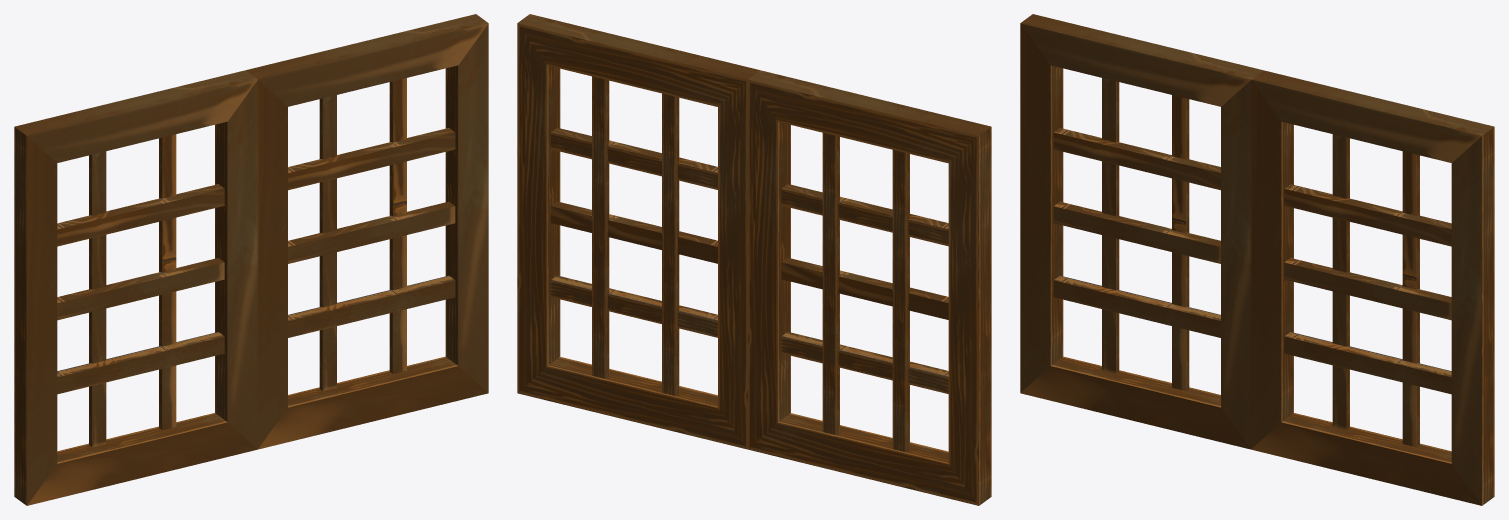
File: window_ff3.fbx
3 views of the same model, side by side, from view 1: azimuth 30°, elevation 25°; view 2: azimuth 150°, elevation 25°; view 3: azimuth 330°, elevation 25° (orthographic).
Visible parts, largest first — view 1: 4x6.001; view 2: 4x6.001; view 3: 4x6.001.
Boxes of the visible parts, left/top/right/bottom form: 4x6.001: left=14, top=14, right=488, bottom=505; 4x6.001: left=517, top=14, right=991, bottom=505; 4x6.001: left=1020, top=14, right=1494, bottom=505.
Bounding box in the file's own units: 2.31 × 1.77 × 0.1119.
